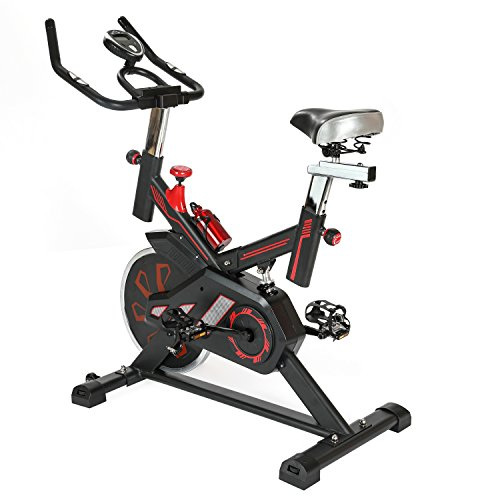gym_bike: (39, 14, 416, 491)
